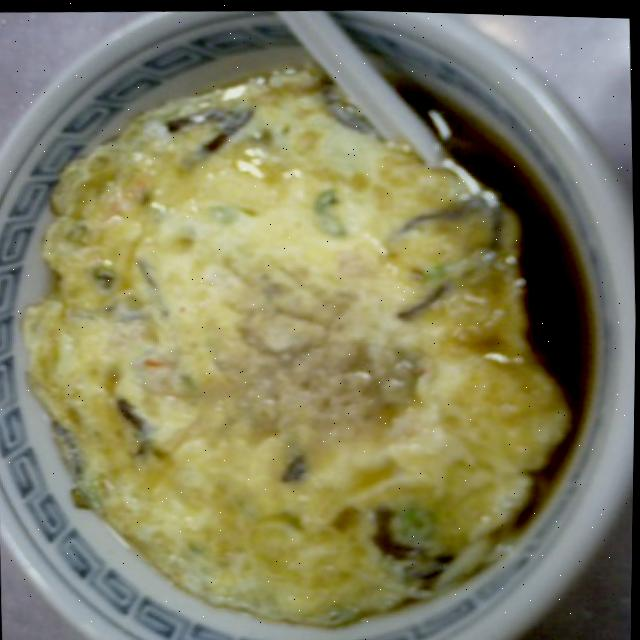面条主食: (0, 39, 606, 640)
